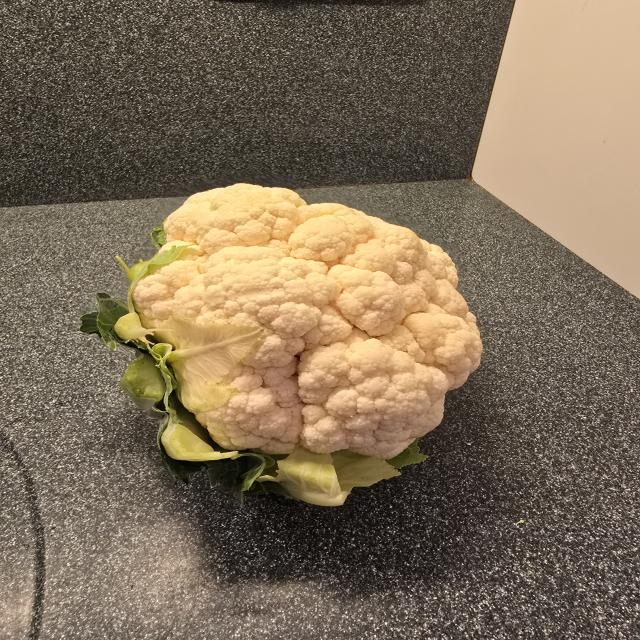Cauliflower: (93, 173, 498, 515)
